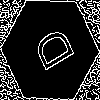D: (25, 24, 76, 78)
